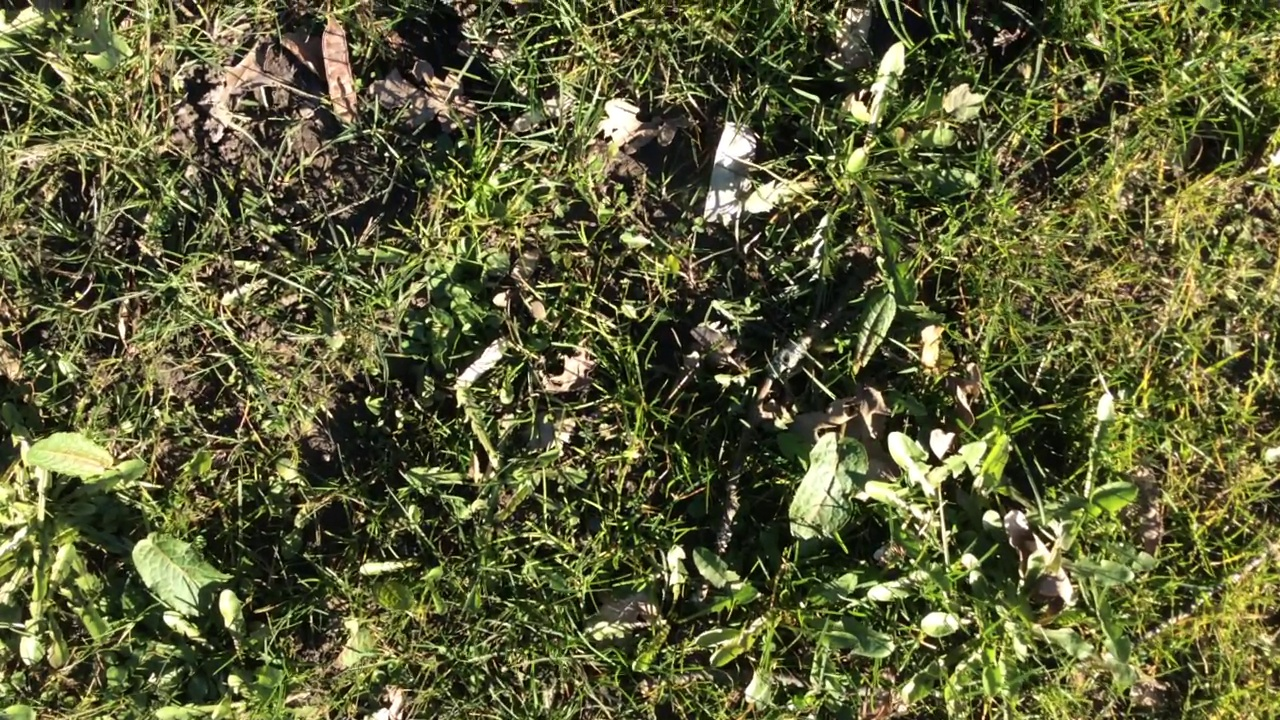rumex: (789, 433, 868, 540), (133, 537, 228, 620), (32, 435, 115, 481), (855, 294, 897, 372)
